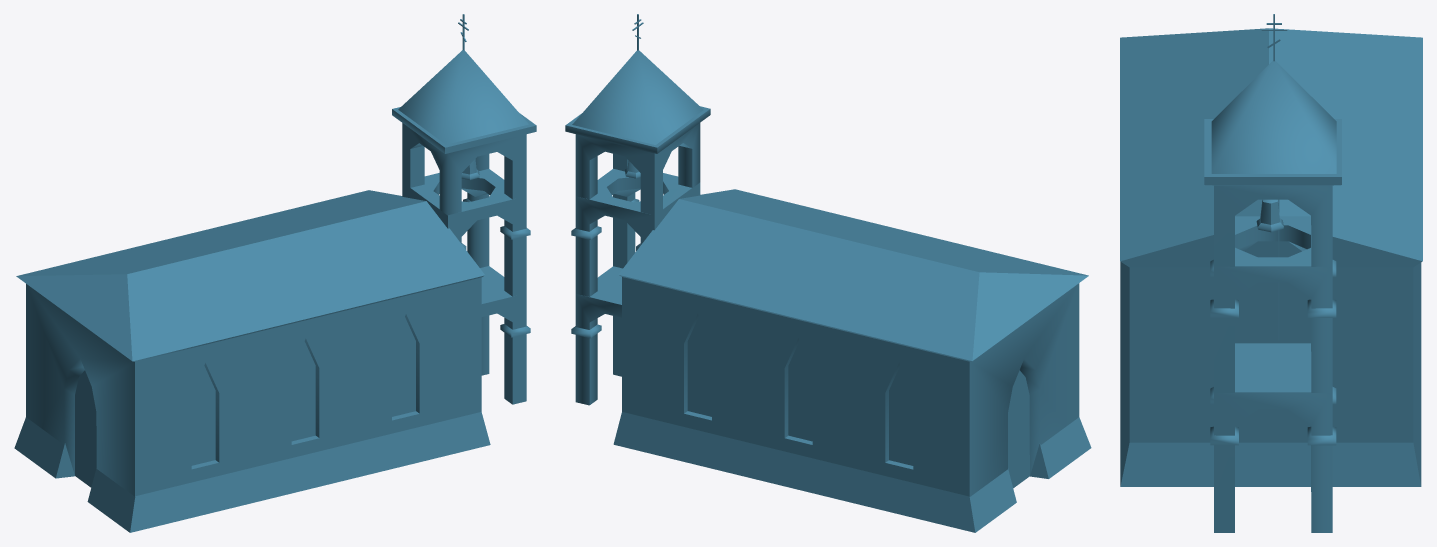
The model's file is Kiosco.obj.
3 renders of one model, left to right at view 1: azimuth 30°, elevation 25°; view 2: azimuth 150°, elevation 25°; view 3: azimuth 270°, elevation 25°, orthographic. The views are drawn at different scales.
Parts seen in each view (by area): view 1: obj0; view 2: obj0; view 3: obj0.
Boxes of the visible parts, x1=… form: obj0: x1=14, y1=14, x2=536, y2=532; obj0: x1=565, y1=14, x2=1091, y2=532; obj0: x1=1120, y1=14, x2=1422, y2=532.
Bounding box in the file's own units: 21.66 × 17.91 × 9.96.
